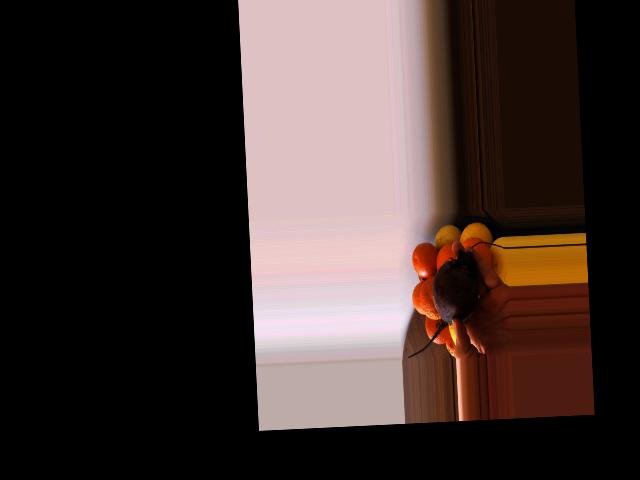beet: (403, 250, 481, 357)
